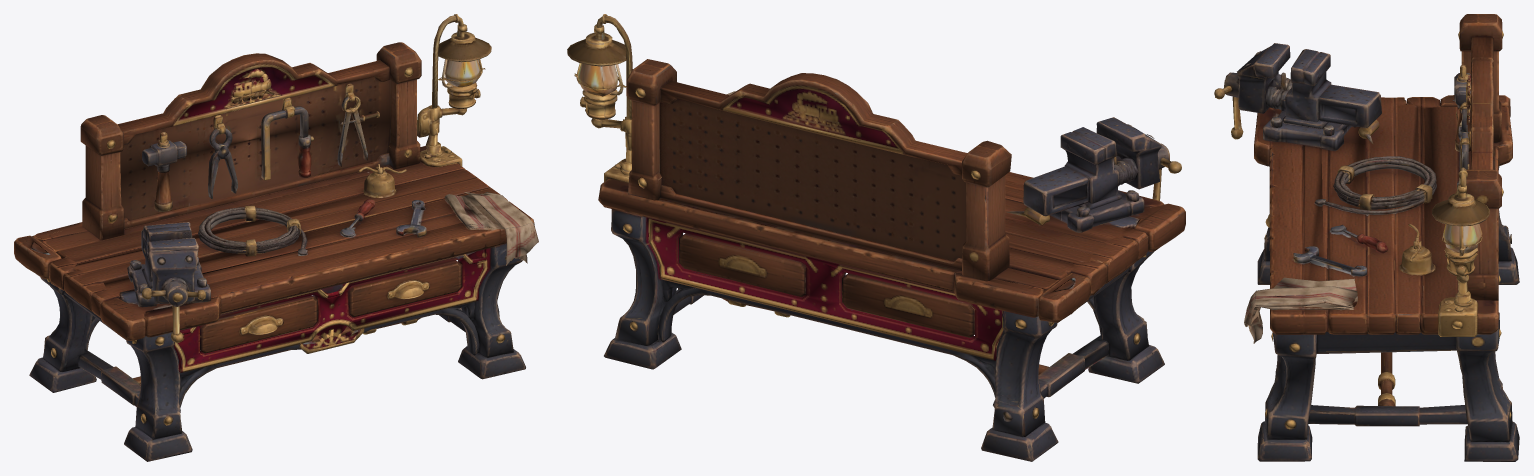
Rendered from WorkshopBench.glb.
The picture shows the model from 3 angles, left to right: view 1: azimuth 30°, elevation 25°; view 2: azimuth 150°, elevation 25°; view 3: azimuth 270°, elevation 25°; orthographic projection. The views are drawn at different scales.
Bounding box in the file's own units: 0.9575 × 0.5664 × 0.5132.
Materials: 1 (1 with a texture image).
